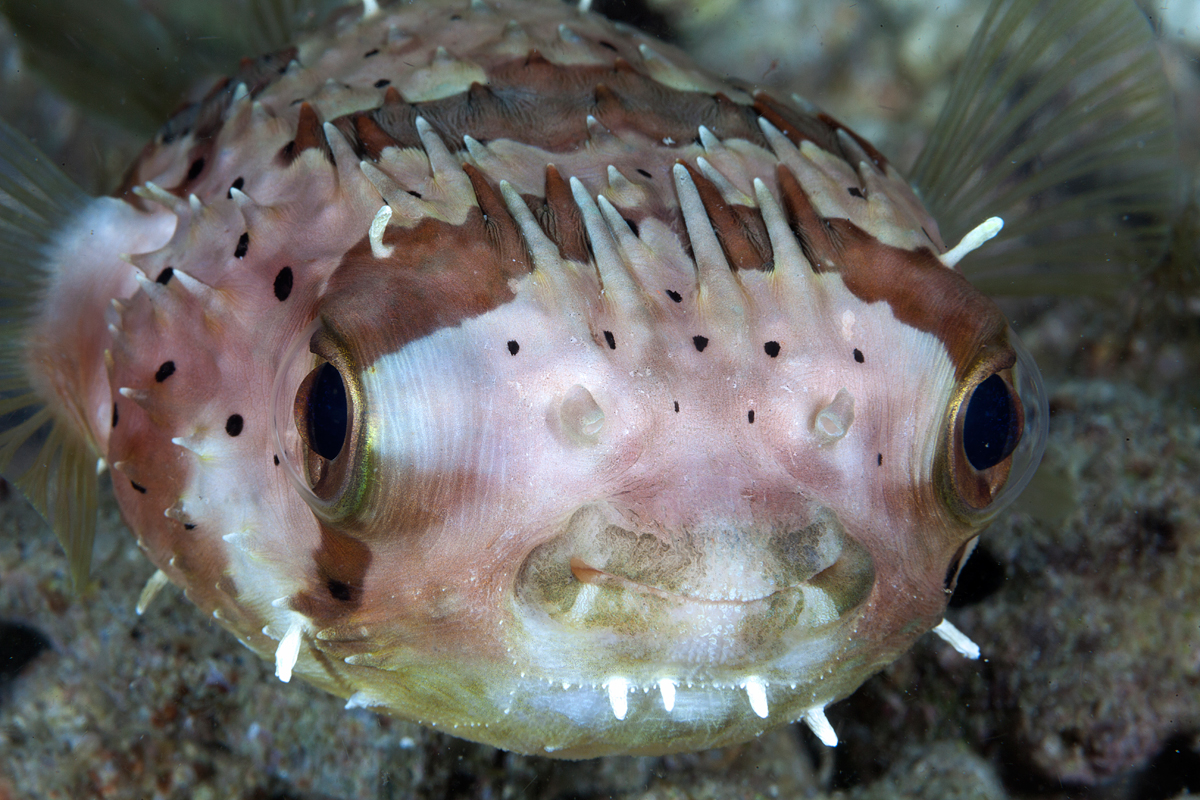Diodon_holocanthus: (32, 4, 1106, 767)
